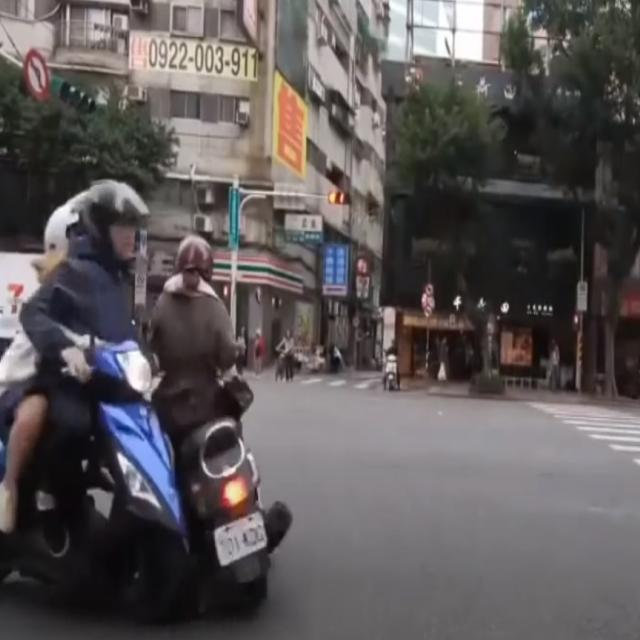accident: (1, 181, 296, 629)
